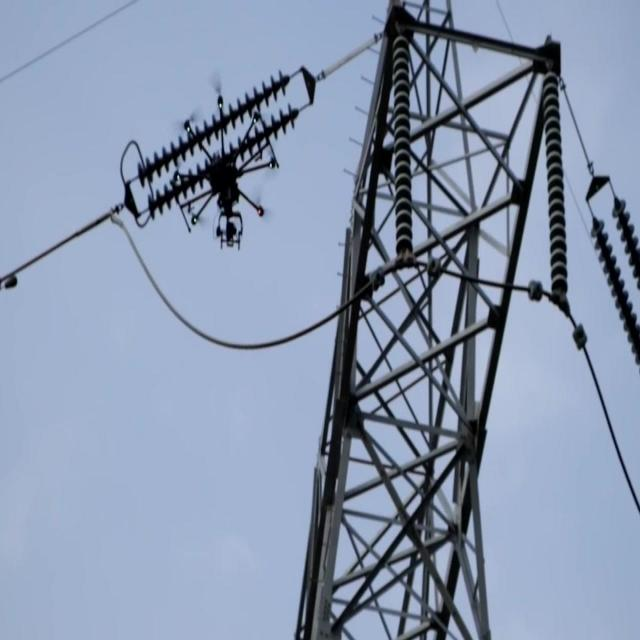UAV: (173, 95, 280, 250)
